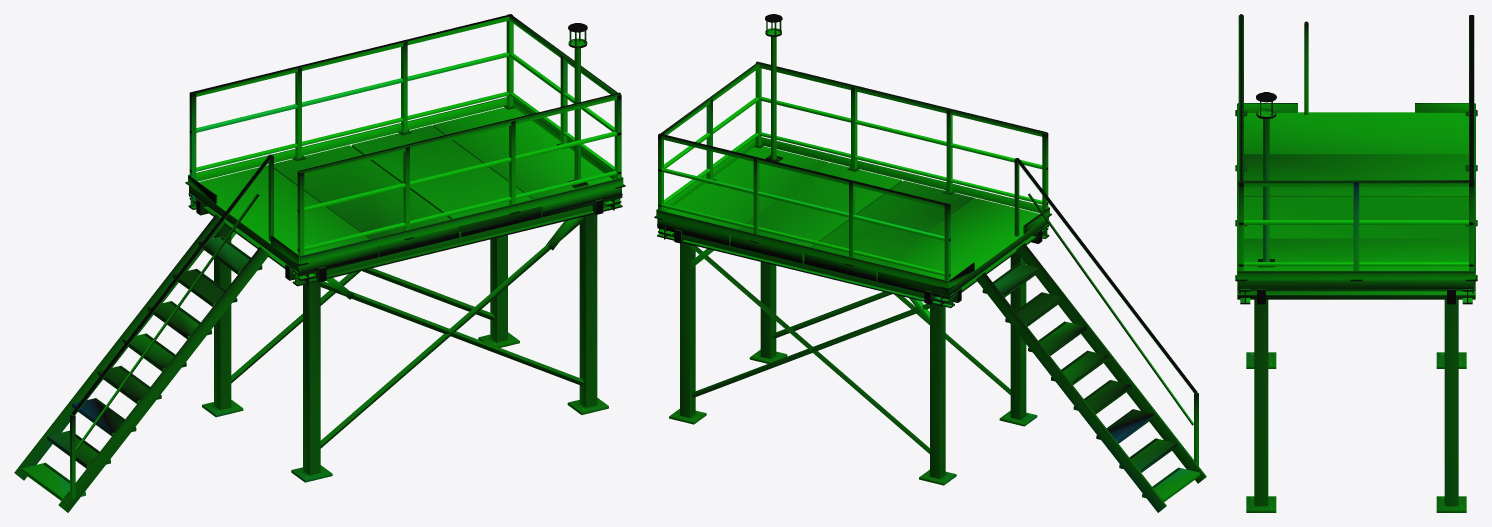
The model's file is observation_deck.glb.
3 views of the same model, side by side, from view 1: azimuth 30°, elevation 25°; view 2: azimuth 150°, elevation 25°; view 3: azimuth 270°, elevation 25° (orthographic). The views are drawn at different scales.
Parts seen in each view (by area): view 1: ObservationDeck; view 2: ObservationDeck; view 3: ObservationDeck.
Boxes of the visible parts, bbox=[...] form: ObservationDeck: bbox=[14, 14, 625, 512]; ObservationDeck: bbox=[654, 14, 1206, 512]; ObservationDeck: bbox=[1235, 14, 1477, 512].
Size of the model in its own units: 6.54 by 4.5 by 2.42.
